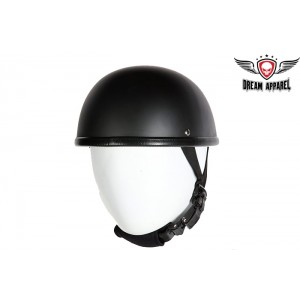with_helmet: (70, 61, 223, 162)
